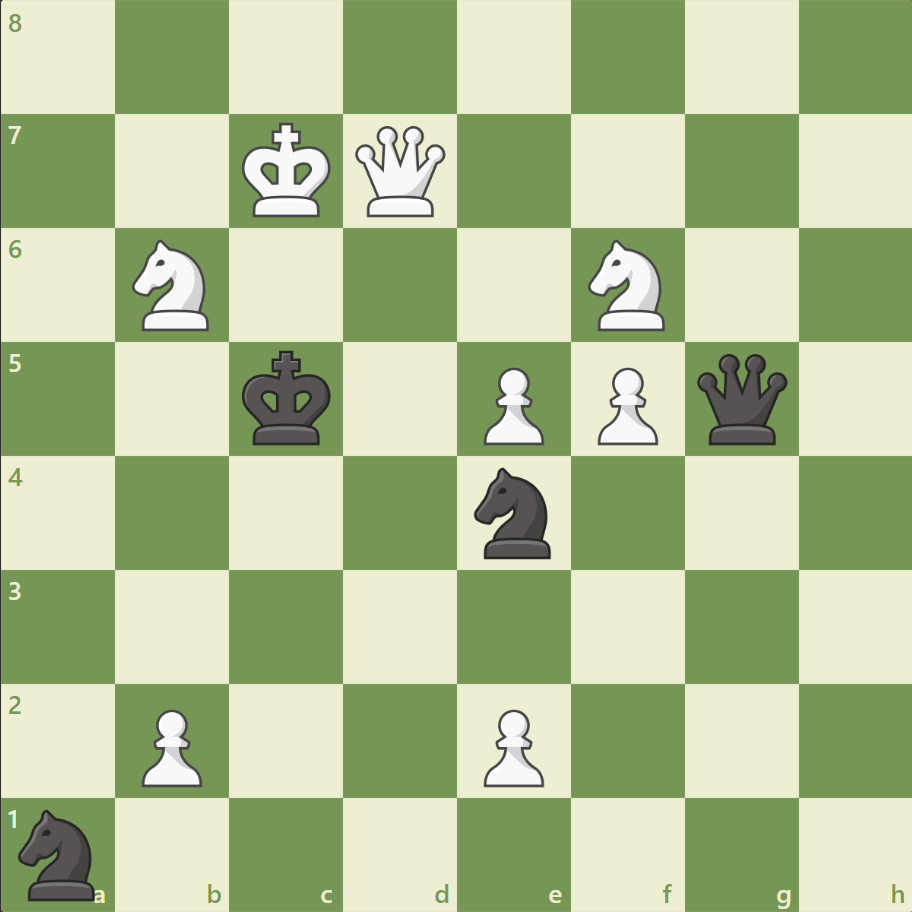K: (238, 117, 338, 225)
N: (124, 234, 222, 337), (579, 234, 676, 337)
P: (474, 359, 549, 450), (133, 700, 208, 791), (474, 700, 549, 791), (588, 359, 662, 450)
Q: (351, 122, 450, 222)
k: (238, 344, 338, 452)
n: (465, 461, 562, 564), (11, 802, 108, 904)
q: (691, 349, 790, 449)
